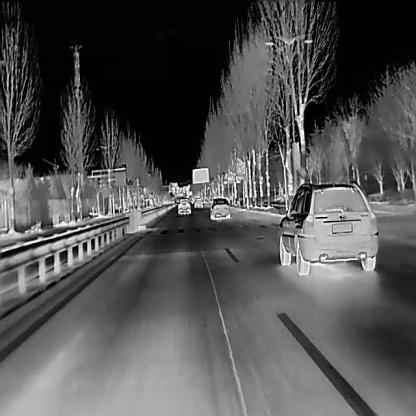car: (277, 178, 379, 274), (210, 196, 230, 219), (176, 196, 190, 213), (193, 196, 202, 207)
